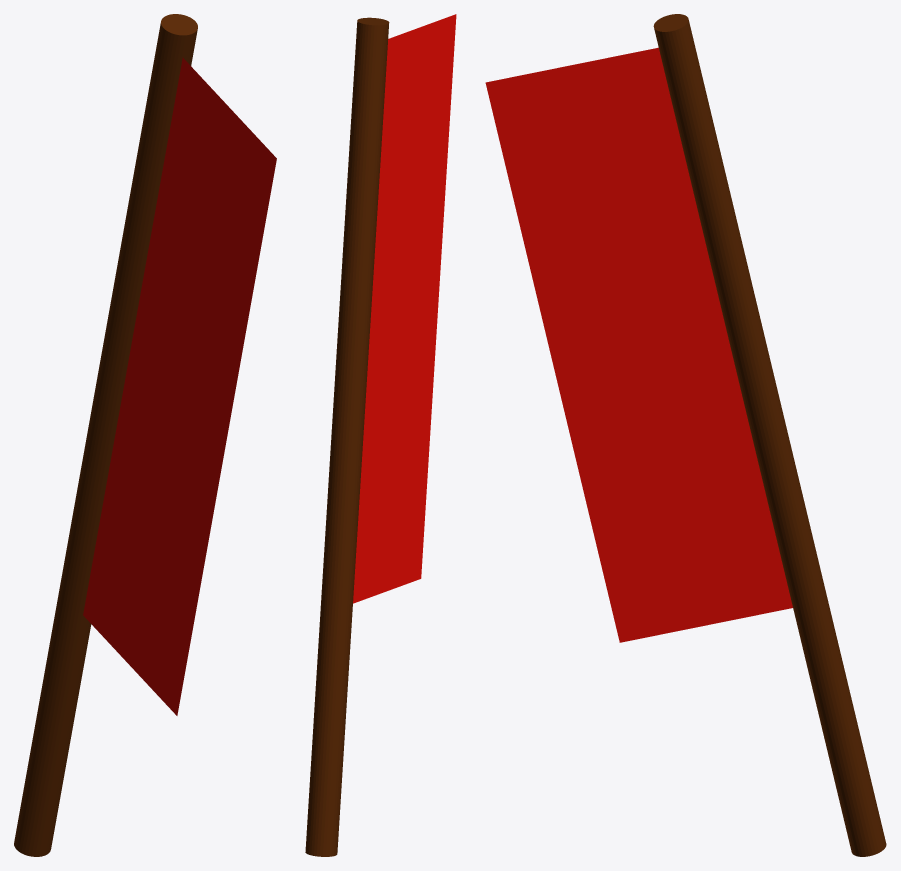
File: flag 1.fbx
3 renders of one model, left to right at view 1: azimuth 30°, elevation 25°; view 2: azimuth 150°, elevation 25°; view 3: azimuth 270°, elevation 25°, orthographic. The views are drawn at different scales.
Visible parts, largest first — view 1: Poll; view 2: Poll; view 3: Poll.
Boxes of the visible parts, x1,y1,x2,y2 form: Poll: [14, 14, 276, 856]; Poll: [305, 14, 456, 856]; Poll: [485, 14, 886, 856].
Size of the model in its own units: 40.62 by 459 by 196.
